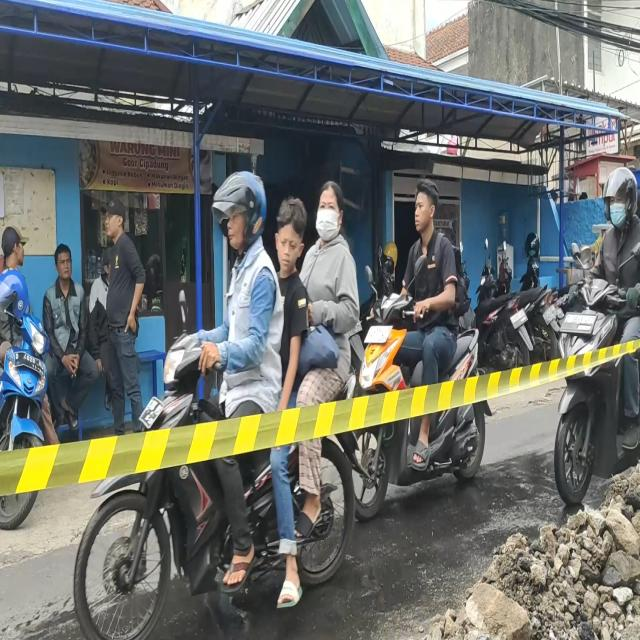helmet: (220, 176, 266, 246), (606, 173, 638, 225)
no-helmet: (274, 196, 305, 271), (317, 183, 345, 241), (412, 184, 440, 231)
